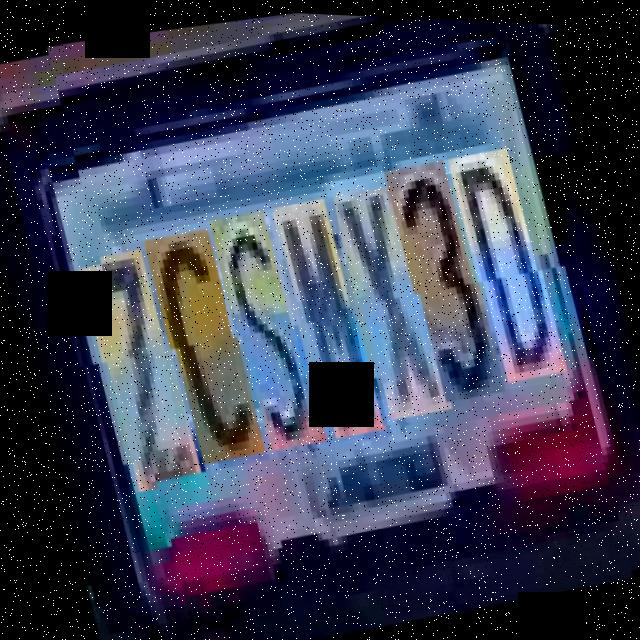3: (386, 157, 500, 408)
C: (144, 225, 261, 469)
D: (450, 145, 562, 389)
M: (275, 194, 380, 444)
S: (211, 205, 321, 456)
X: (334, 182, 447, 426)
Z: (77, 244, 195, 489)
